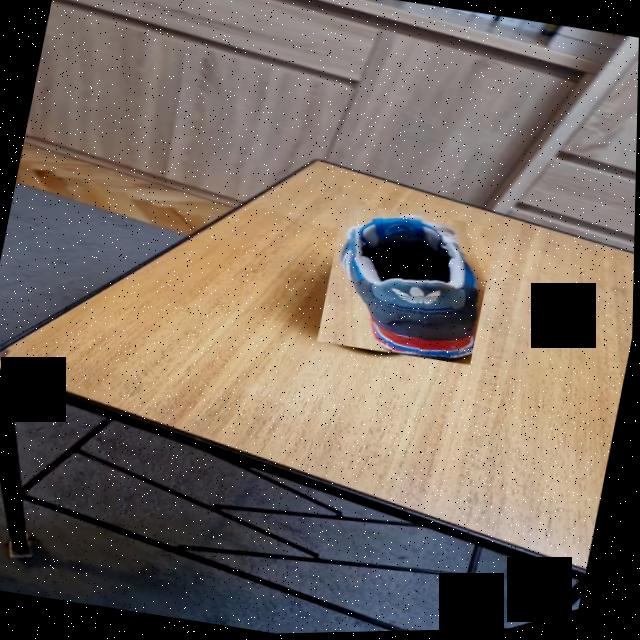shoe: (318, 202, 499, 370)
